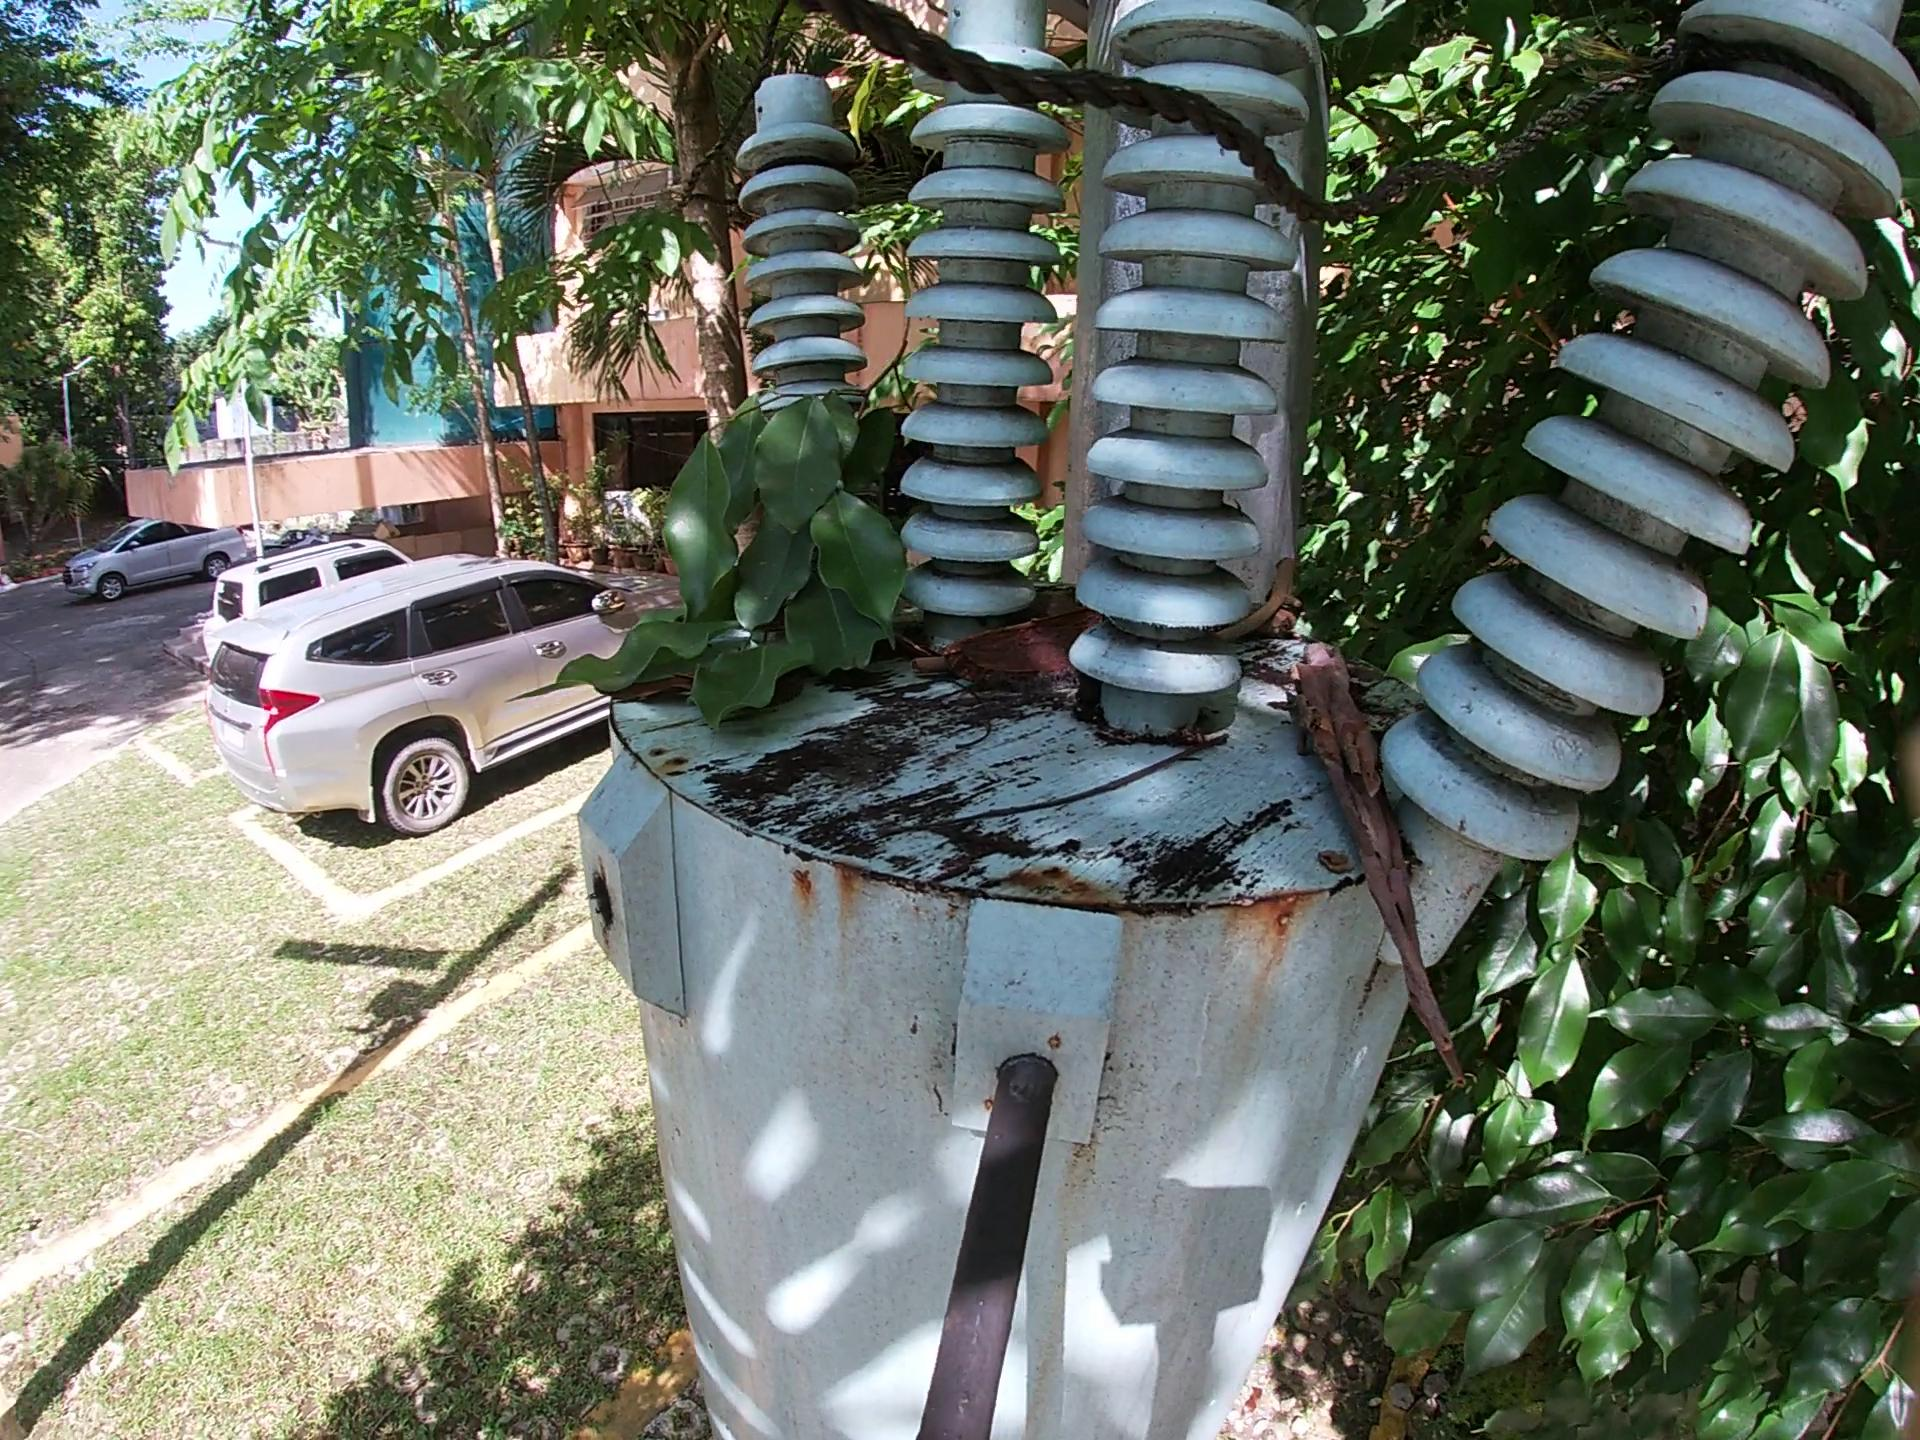branch with leaves: (568, 337, 912, 759)
mahogany fruit: (937, 605, 1111, 690), (614, 679, 714, 715)
tree branch: (1276, 629, 1476, 1092), (881, 725, 1243, 846), (934, 708, 1005, 765), (913, 643, 972, 688), (1013, 576, 1090, 601)
